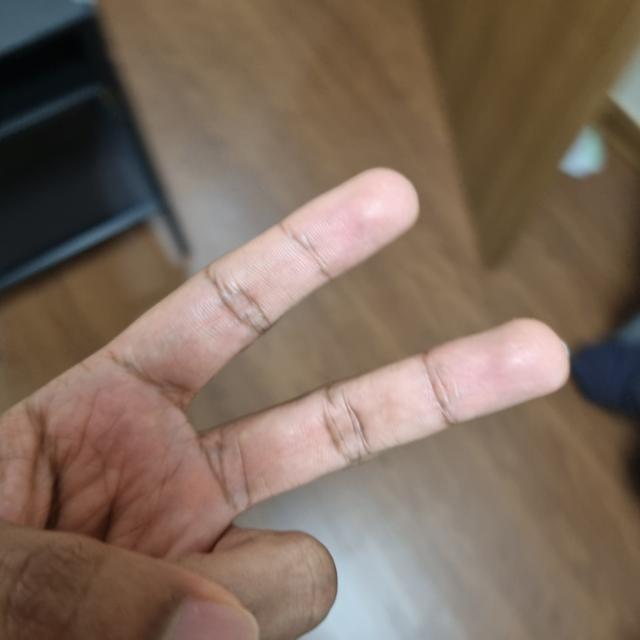Scissors: (0, 172, 568, 640)
